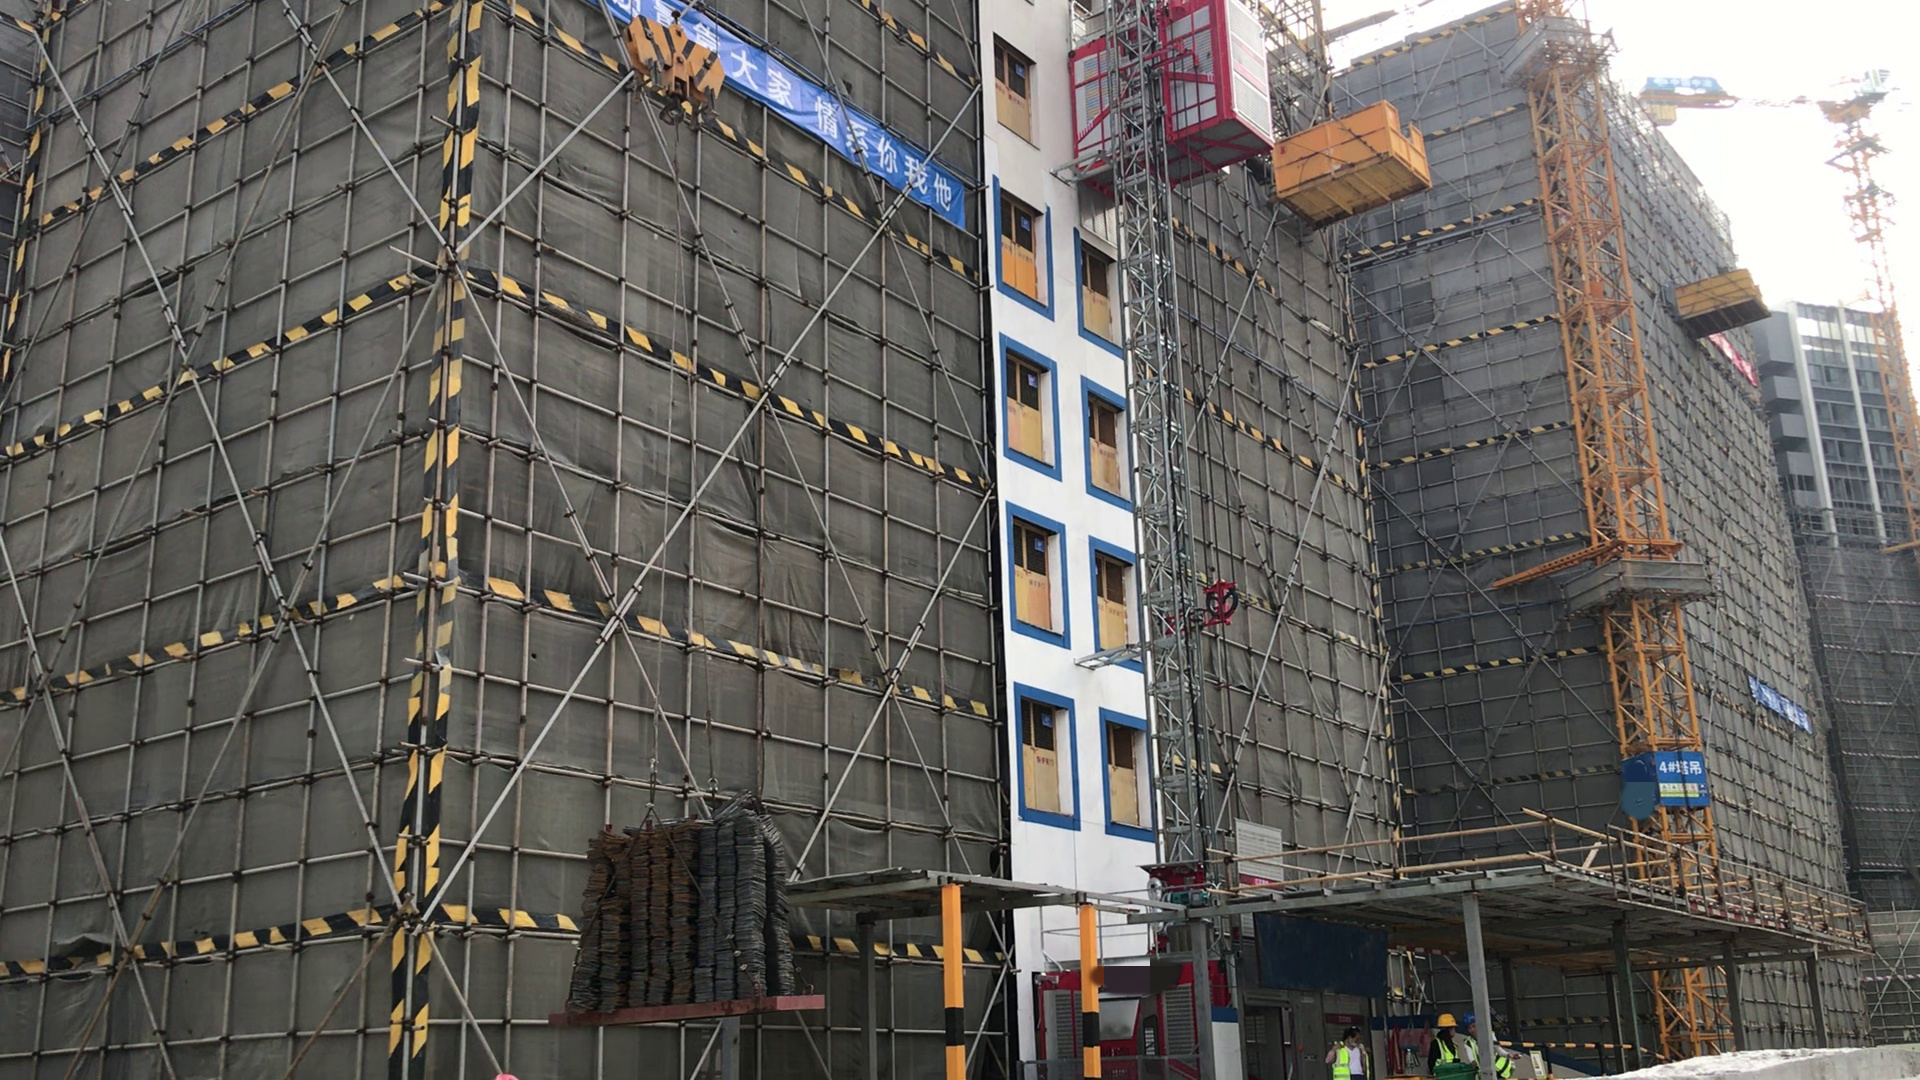helmet: (1434, 1011, 1457, 1027)
hook: (617, 5, 733, 137)
person: (1460, 1011, 1515, 1080), (1325, 1016, 1376, 1080), (1426, 1004, 1460, 1073)
slogan: (736, 21, 978, 229), (1738, 663, 1821, 741), (1644, 744, 1708, 809), (1713, 330, 1762, 402)
vest: (1464, 1040, 1512, 1080), (1329, 1036, 1372, 1079), (1435, 1034, 1460, 1064)
